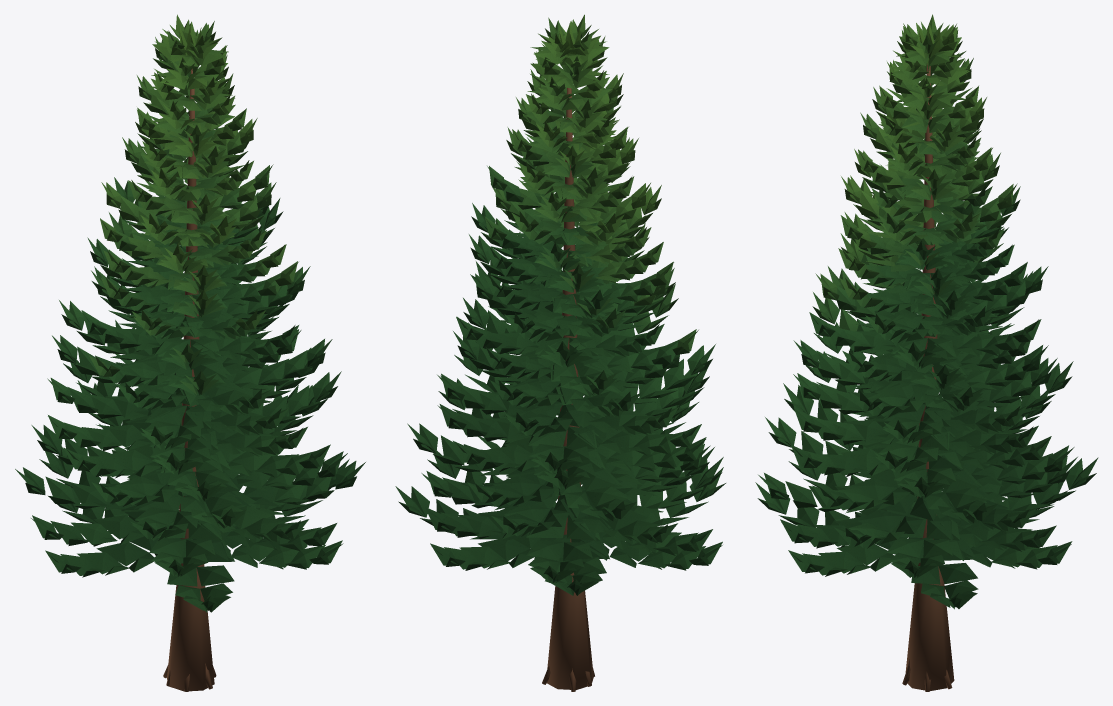
Rendered from tree_cedar.glb.
3 views of the same model, side by side, from view 1: azimuth 30°, elevation 25°; view 2: azimuth 150°, elevation 25°; view 3: azimuth 270°, elevation 25° (orthographic).
Parts seen in each view (by area): view 1: tree_cedar; view 2: tree_cedar; view 3: tree_cedar.
Boxes of the visible parts, left/top/right/bottom form: tree_cedar: left=15, top=14, right=365, bottom=691; tree_cedar: left=395, top=14, right=725, bottom=691; tree_cedar: left=755, top=14, right=1098, bottom=691.
Size of the model in its own units: 8.08 by 16.37 by 7.74.
